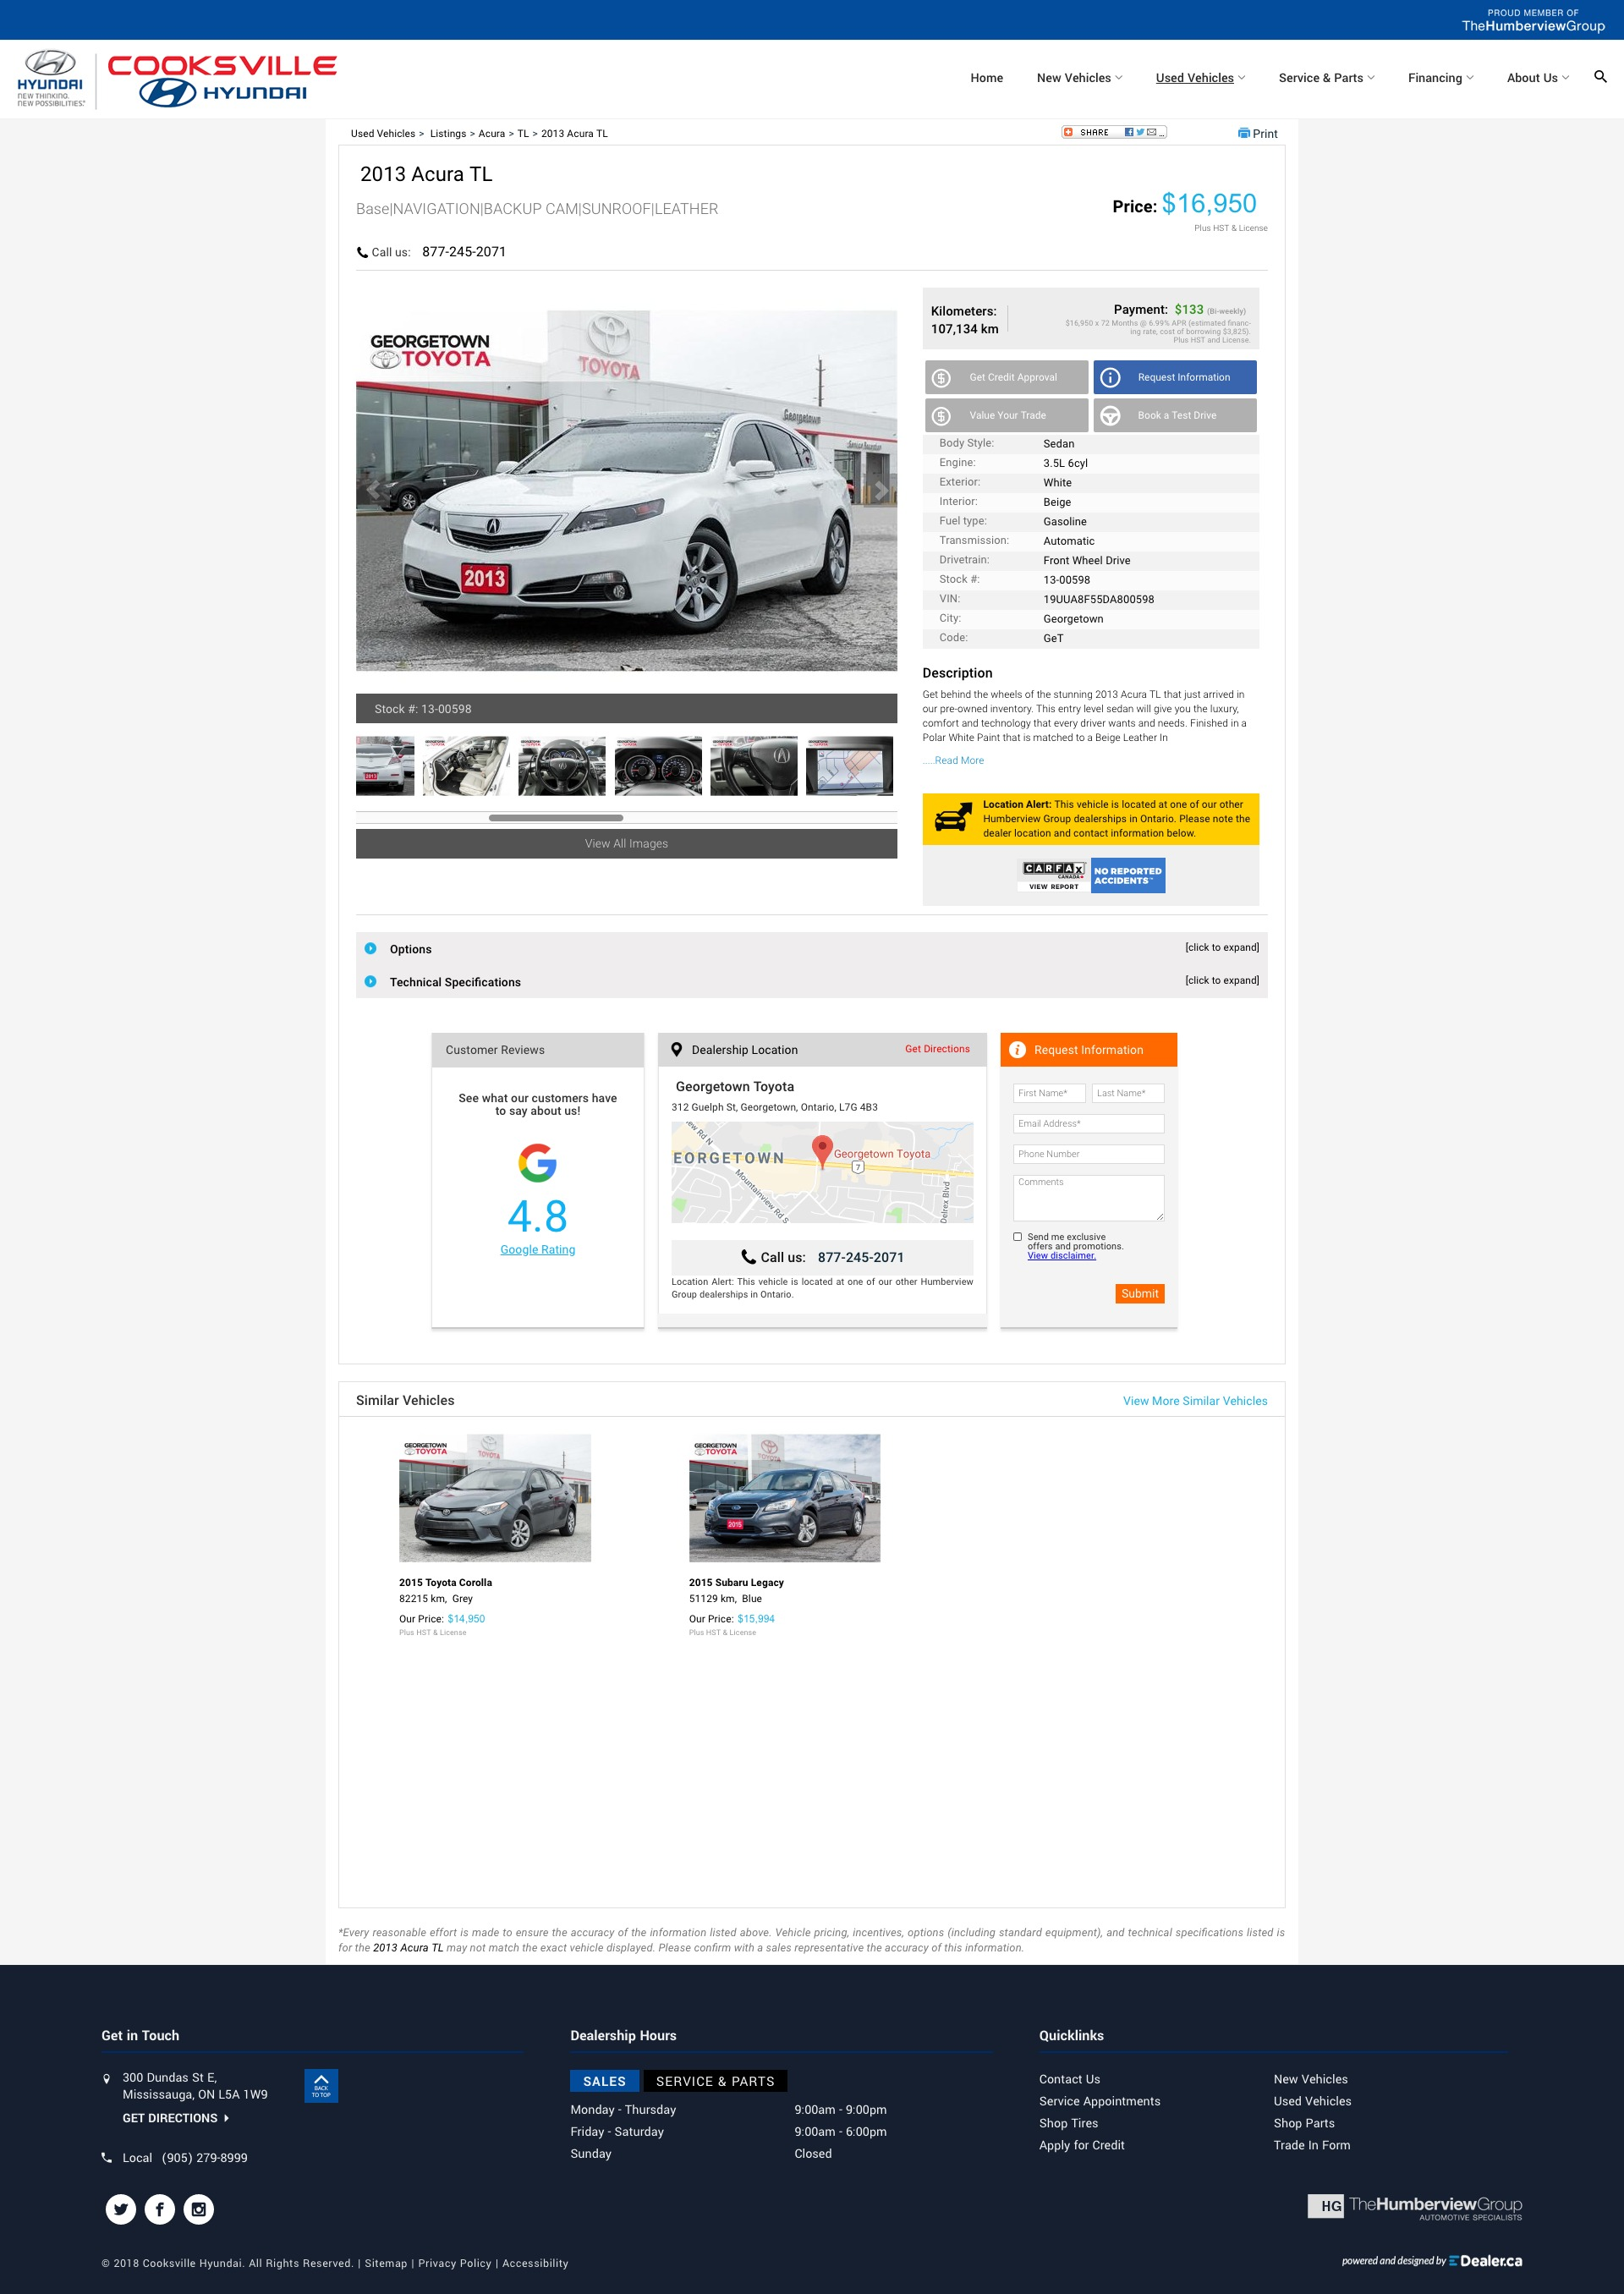car: (863, 473, 900, 510)
